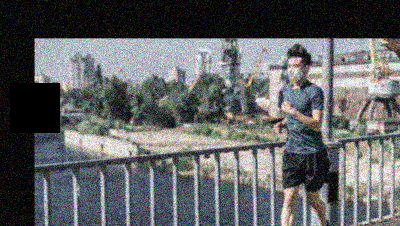with_mask: (285, 59, 304, 81)
